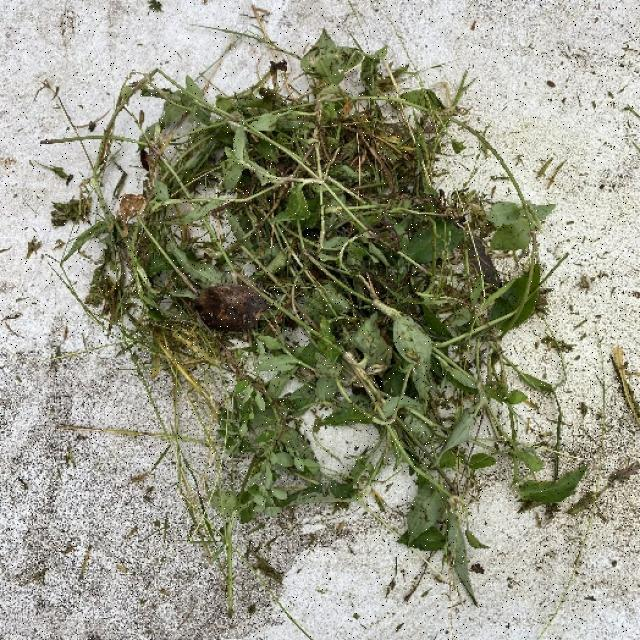organik: (63, 48, 535, 562)
